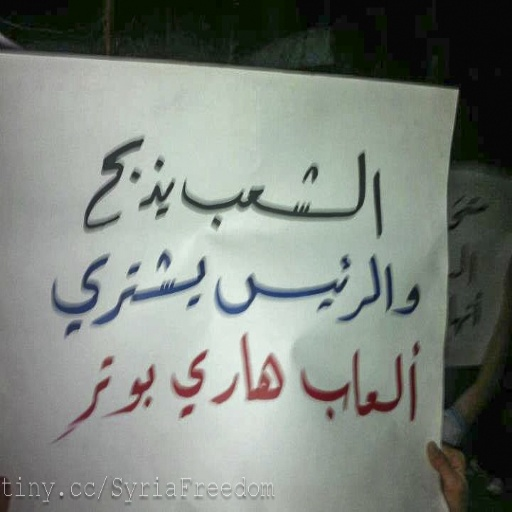hand: (425, 437, 470, 510)
